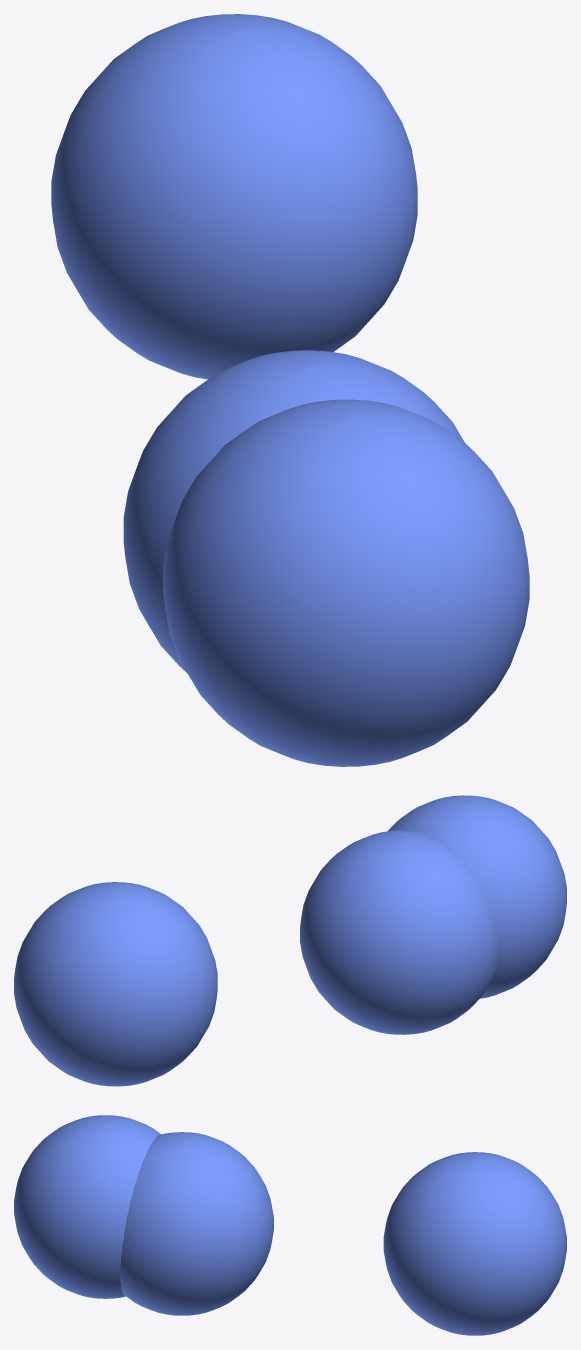
Rendered from nitrogen2.fbx.
3 views of the same model, one above another, from view 1: azimuth 30°, elevation 25°; view 2: azimuth 150°, elevation 25°; view 3: azimuth 270°, elevation 25° (orthographic). The views are drawn at different scales.
Visible parts, largest first — view 1: Nitrogen_mesh|Nitrogen_ball|Dupli|, Nitrogen_mesh|Nitrogen_ball|Dupli|0.1, Nitrogen_mesh|Nitrogen_ball|Dupli|1, Nitrogen_ball; view 2: Nitrogen_ball, Nitrogen_mesh|Nitrogen_ball|Dupli|1, Nitrogen_mesh|Nitrogen_ball|Dupli|0.1, Nitrogen_mesh|Nitrogen_ball|Dupli|; view 3: Nitrogen_mesh|Nitrogen_ball|Dupli|1, Nitrogen_ball, Nitrogen_mesh|Nitrogen_ball|Dupli|, Nitrogen_mesh|Nitrogen_ball|Dupli|0.1.
Boxes of the visible parts, box(x1,y1,x2,y2) form: Nitrogen_mesh|Nitrogen_ball|Dupli|: box(163, 399, 529, 766); Nitrogen_mesh|Nitrogen_ball|Dupli|0.1: box(51, 16, 417, 379); Nitrogen_mesh|Nitrogen_ball|Dupli|1: box(80, 14, 417, 375); Nitrogen_ball: box(123, 350, 464, 673); Nitrogen_ball: box(300, 830, 498, 1034); Nitrogen_mesh|Nitrogen_ball|Dupli|1: box(14, 882, 208, 1086); Nitrogen_mesh|Nitrogen_ball|Dupli|0.1: box(25, 882, 217, 1086); Nitrogen_mesh|Nitrogen_ball|Dupli|: box(388, 795, 566, 998); Nitrogen_mesh|Nitrogen_ball|Dupli|1: box(383, 1154, 566, 1335); Nitrogen_ball: box(120, 1132, 273, 1315); Nitrogen_mesh|Nitrogen_ball|Dupli|: box(14, 1115, 161, 1298); Nitrogen_mesh|Nitrogen_ball|Dupli|0.1: box(386, 1152, 563, 1311).
Bounding box in the file's own units: 271 × 180 × 451.
